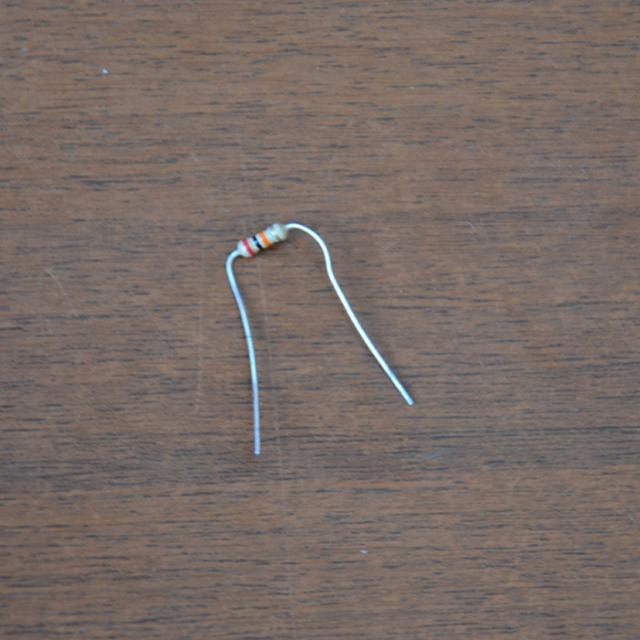black: (252, 237, 262, 249)
gold: (272, 224, 283, 242)
orange: (260, 230, 271, 247)
red: (241, 239, 254, 256)
resistor: (230, 216, 293, 265)
